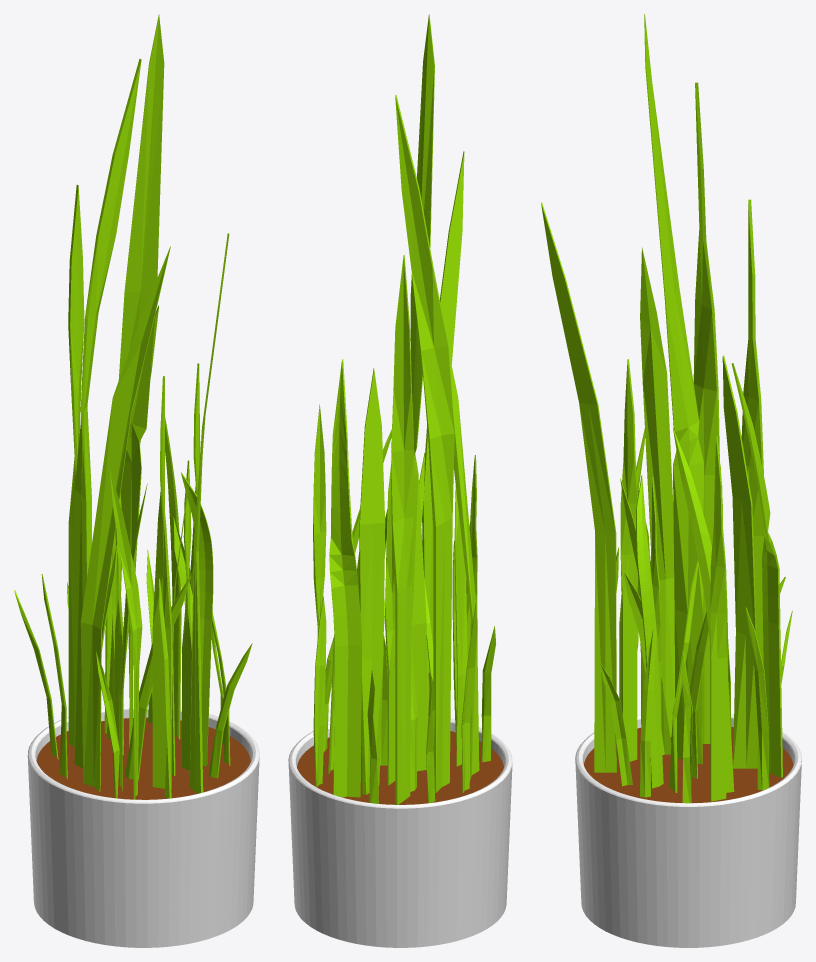
File: Plant.dae
3 renders of one model, left to right at view 1: azimuth 30°, elevation 25°; view 2: azimuth 150°, elevation 25°; view 3: azimuth 270°, elevation 25°, orthographic. The views are drawn at different scales.
Parts seen in each view (by area): view 1: Snake_plant; view 2: Snake_plant; view 3: Snake_plant.
Boxes of the visible parts, x1,y1,x2,y2 form: Snake_plant: (14, 14, 259, 947); Snake_plant: (288, 14, 512, 947); Snake_plant: (541, 14, 801, 947).
Bounding box in the file's own units: 0.2094 × 0.2411 × 0.9023.
